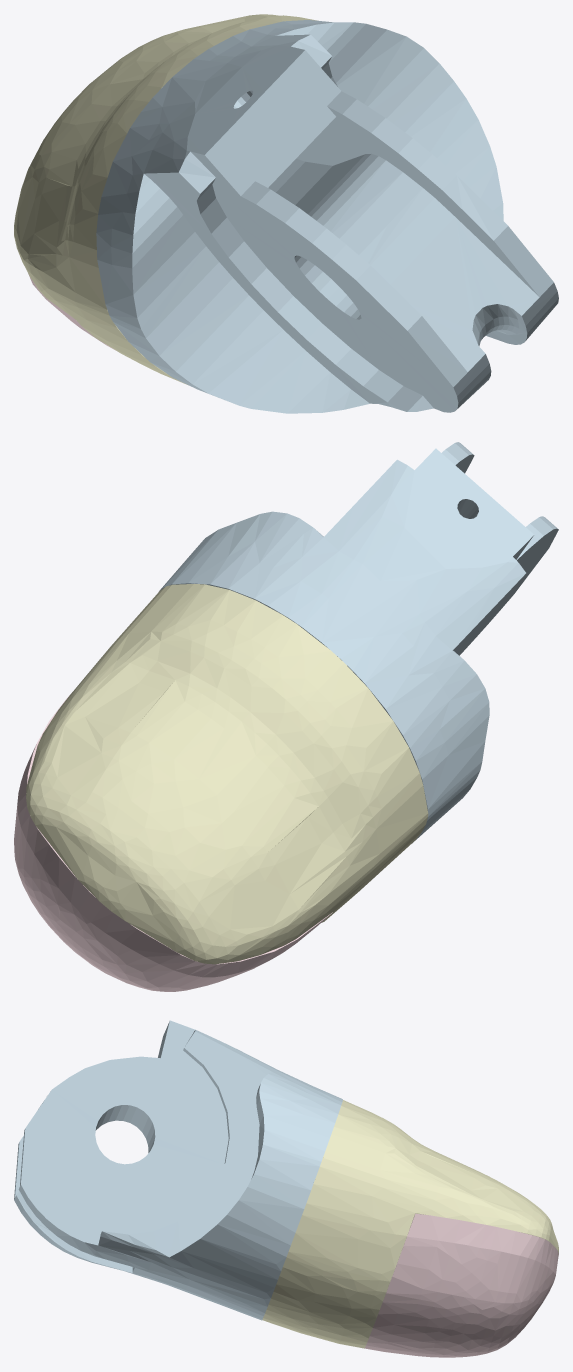
The model's file is i02_rightHand_pinkyTip_visual.obj.light.glb.
3 views of the same model, one above another, from view 1: azimuth 30°, elevation 25°; view 2: azimuth 150°, elevation 25°; view 3: azimuth 270°, elevation 25° (orthographic). The views are drawn at different scales.
Bounding box in the file's own units: 0.1654 × 0.1995 × 0.3259.
